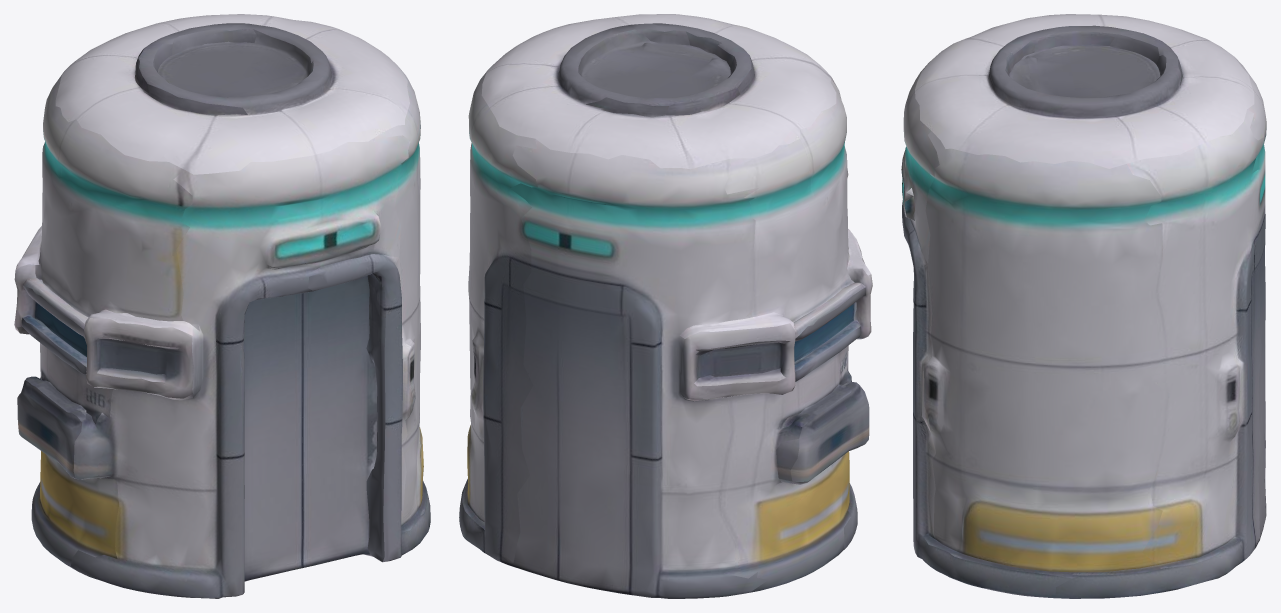
Rendered from lift_kiosk.glb.
3 views of the same model, side by side, from view 1: azimuth 30°, elevation 25°; view 2: azimuth 150°, elevation 25°; view 3: azimuth 270°, elevation 25° (orthographic).
Parts seen in each view (by area): view 1: lift_kiosk_s41; view 2: lift_kiosk_s41; view 3: lift_kiosk_s41.
Part boxes in pixels (x1=…): lift_kiosk_s41: x1=14, y1=14, x2=430, y2=598; lift_kiosk_s41: x1=459, y1=14, x2=872, y2=598; lift_kiosk_s41: x1=901, y1=14, x2=1266, y2=598.
Size of the model in its own units: 0.8173 by 1 by 0.7282.
1 material, 1 textured.
